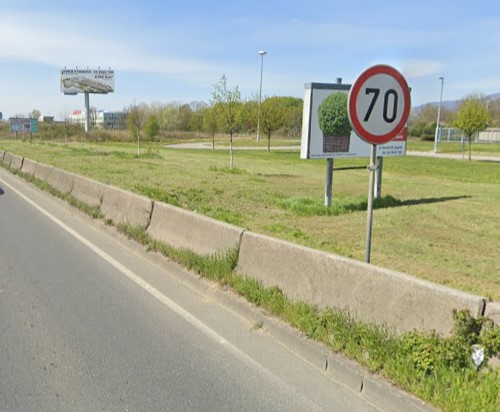Ograničenje brzine 70: (347, 63, 412, 144)
